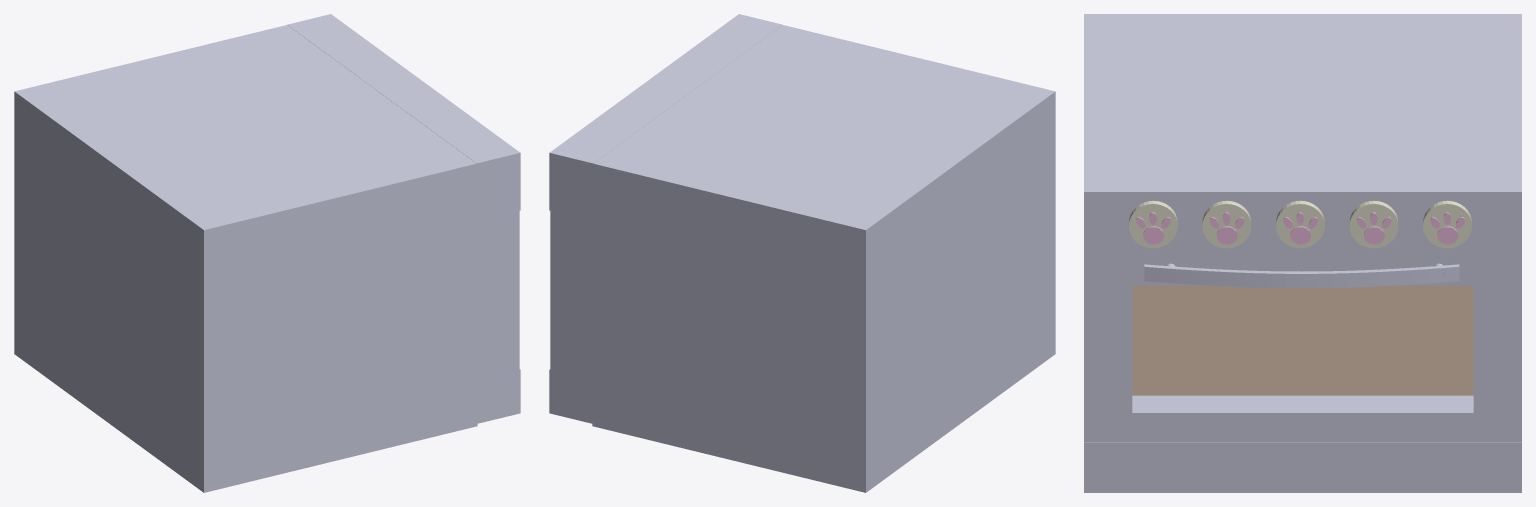
Rendered from oven_closed.fbx.
The picture shows the model from 3 angles, left to right: view 1: azimuth 30°, elevation 25°; view 2: azimuth 150°, elevation 25°; view 3: azimuth 270°, elevation 25°; orthographic projection. The views are drawn at different scales.
Visible parts, largest first — view 1: Cube.001; view 2: Cube.001; view 3: Cube.001.
Boxes of the visible parts, x1,y1,x2,y2 form: Cube.001: (14, 14, 520, 492); Cube.001: (549, 14, 1055, 492); Cube.001: (1084, 14, 1521, 492).
Bounding box in the file's own units: 229 × 171 × 224.
